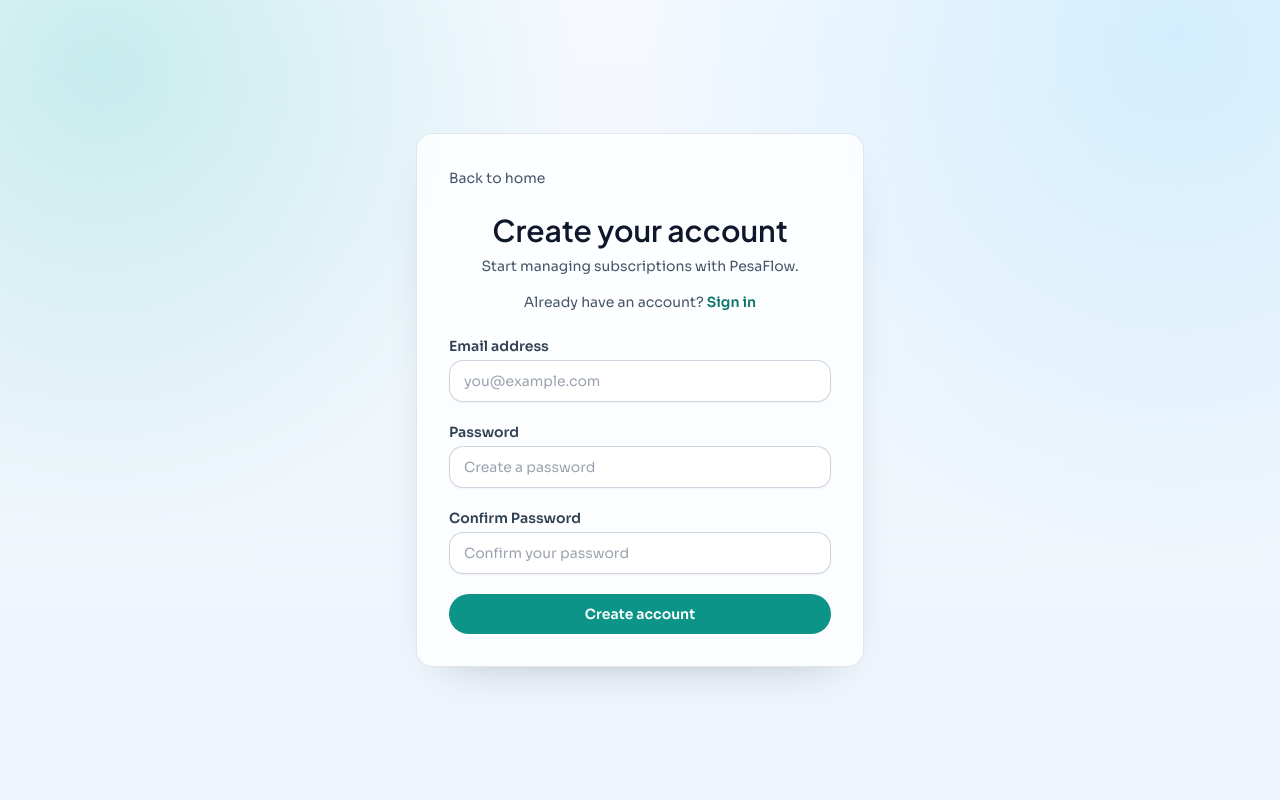
Scenario: SignupPage › should display error message on signup failure
In the field labelled "Email address": (640, 381) left=449, top=360, right=831, bottom=402, type "existing@example.com"
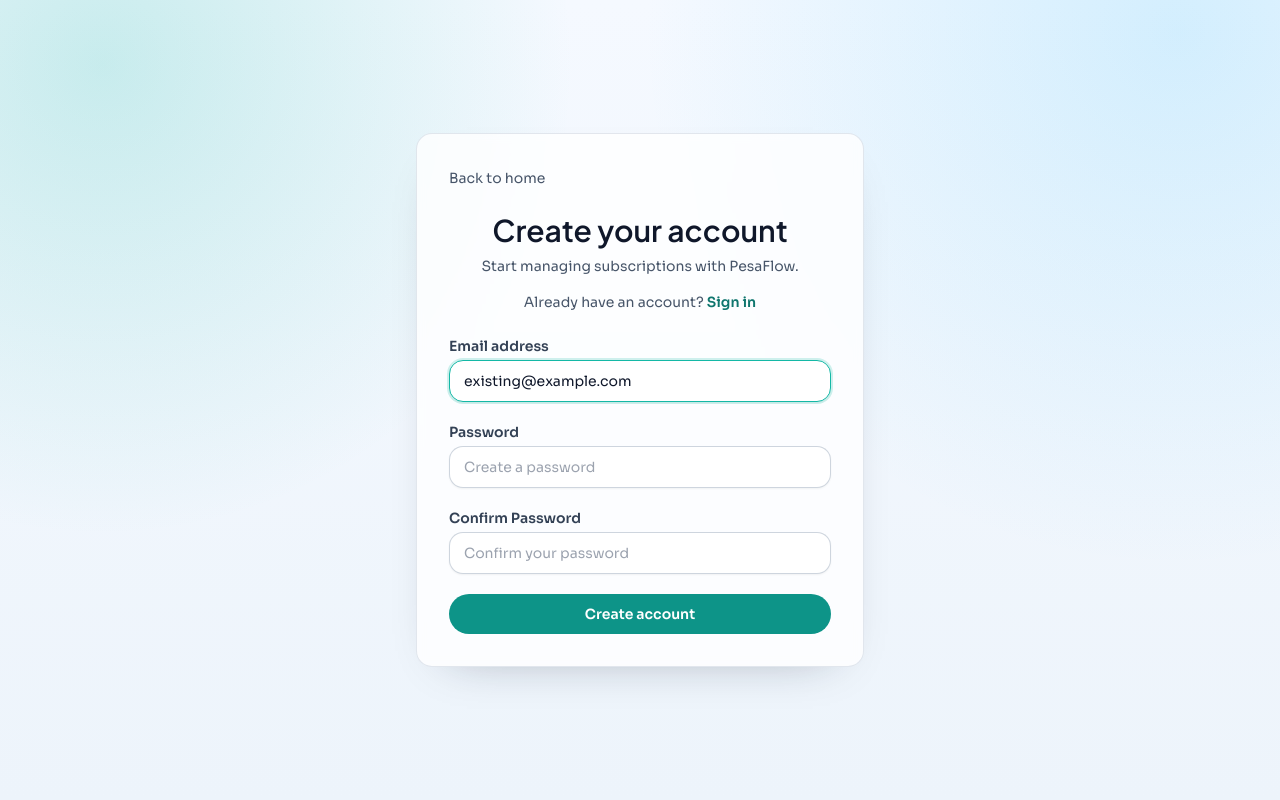
In the password field labelled "Password": (640, 467) left=449, top=446, right=831, bottom=488, type "password123"
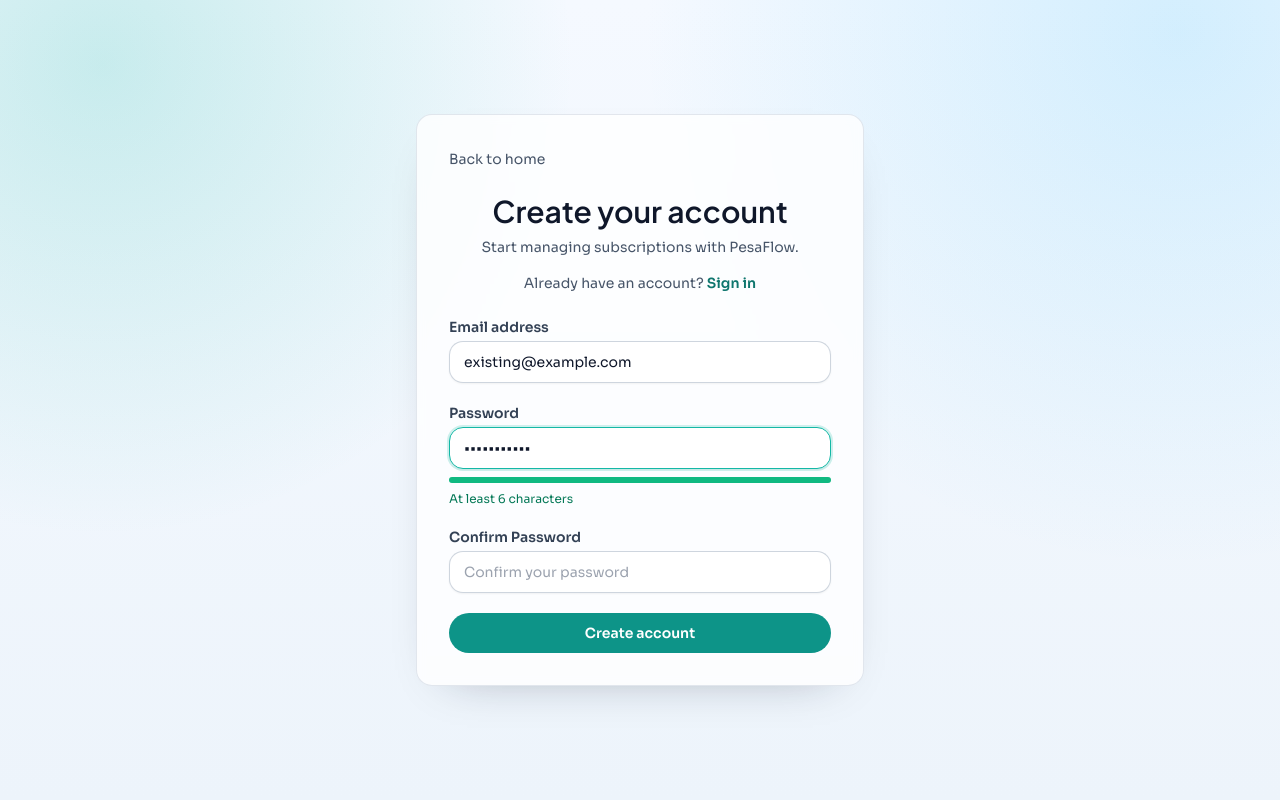
In the password field labelled "Confirm Password": (640, 572) left=449, top=551, right=831, bottom=593, type "password123"
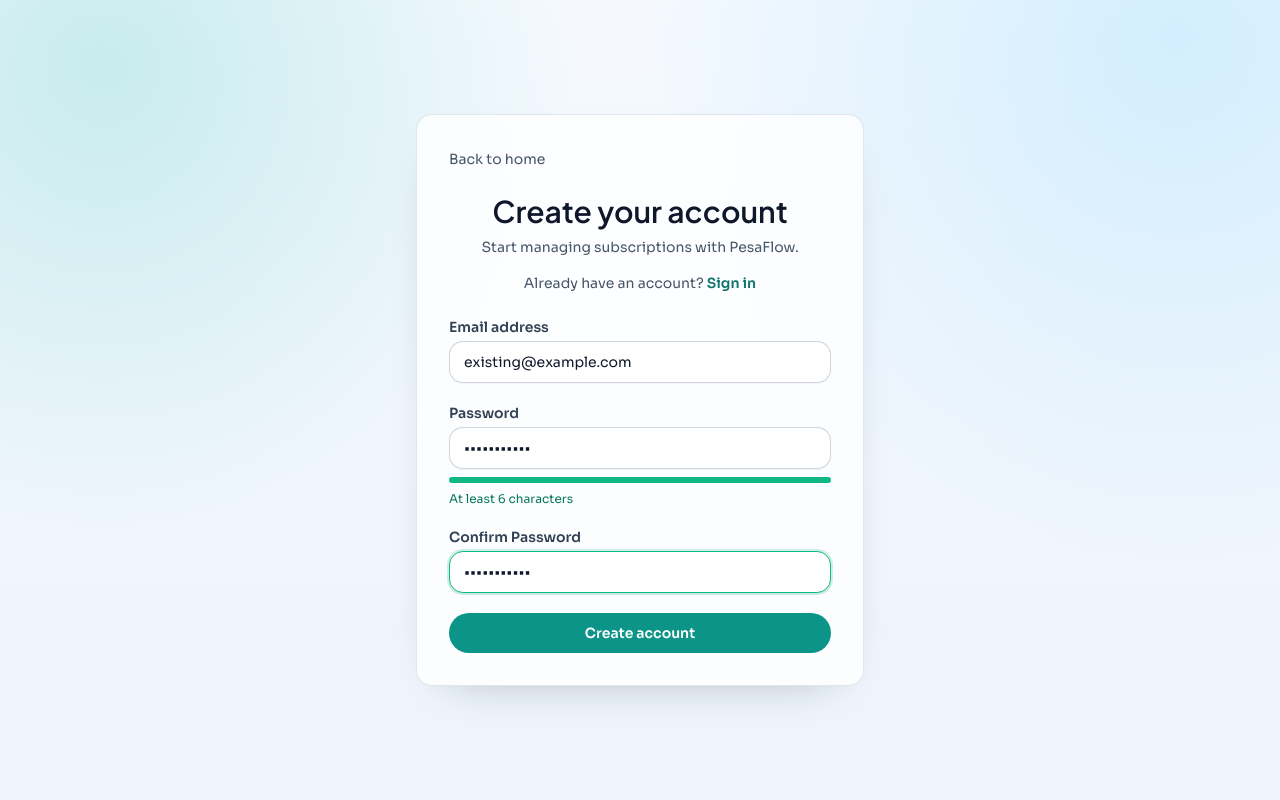
Click the button "Create account": (640, 633) left=449, top=613, right=831, bottom=653
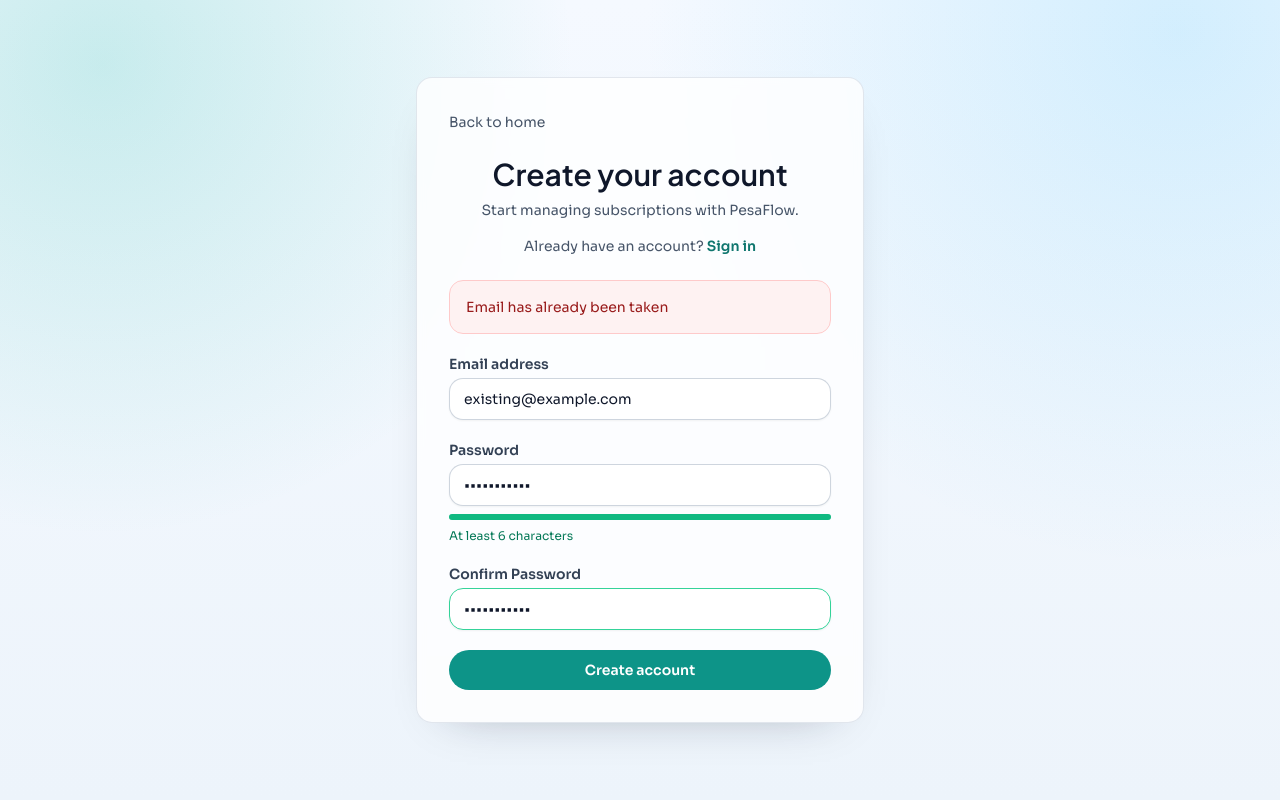
Check: the text "Email has already been taken" is shown, box left=466, top=298, right=668, bottom=316
